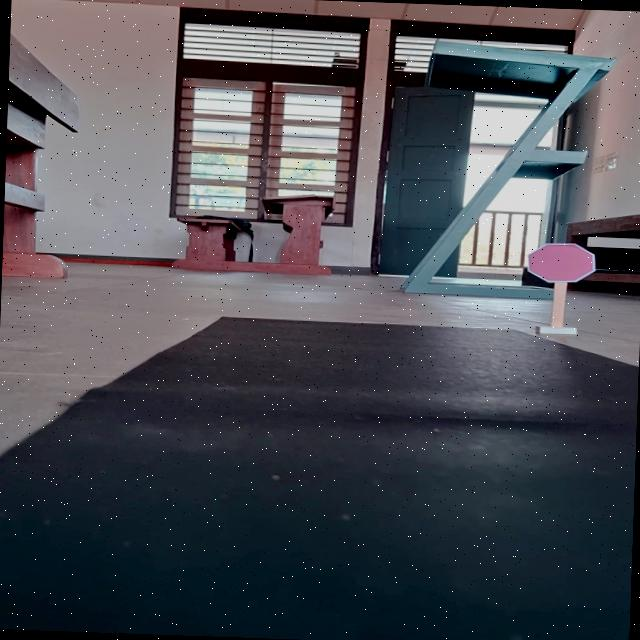Stop: (522, 240, 596, 284)
